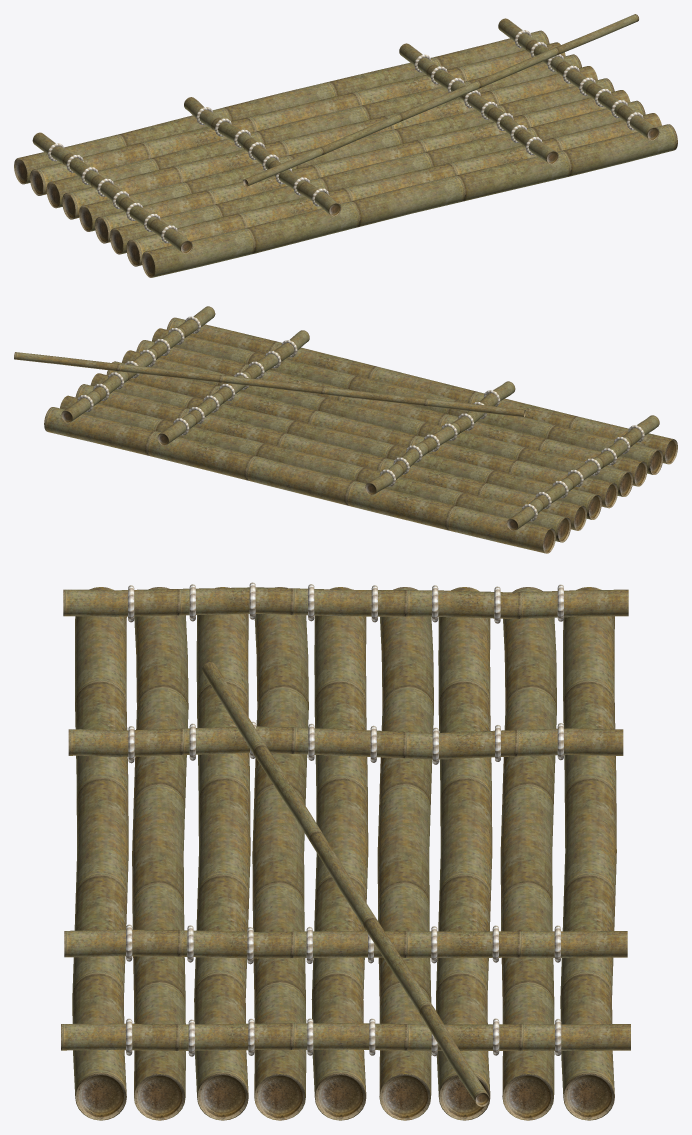
File: JangadaBambu.fbx
3 renders of one model, top to bottom at view 1: azimuth 30°, elevation 25°; view 2: azimuth 150°, elevation 25°; view 3: azimuth 270°, elevation 25°, orthographic. The views are drawn at different scales.
Parts seen in each view (by area): view 1: JangadaBambu, Remo; view 2: JangadaBambu, Remo; view 3: JangadaBambu, Remo.
Boxes of the visible parts, bbox=[...] form: JangadaBambu: bbox=[14, 18, 677, 277]; Remo: bbox=[242, 14, 638, 186]; JangadaBambu: bbox=[44, 306, 677, 553]; Remo: bbox=[14, 352, 525, 417]; JangadaBambu: bbox=[61, 582, 630, 1120]; Remo: bbox=[202, 662, 489, 1106].
Size of the model in its own units: 35.37 by 2.71 by 15.53.
1 material, 1 textured.
